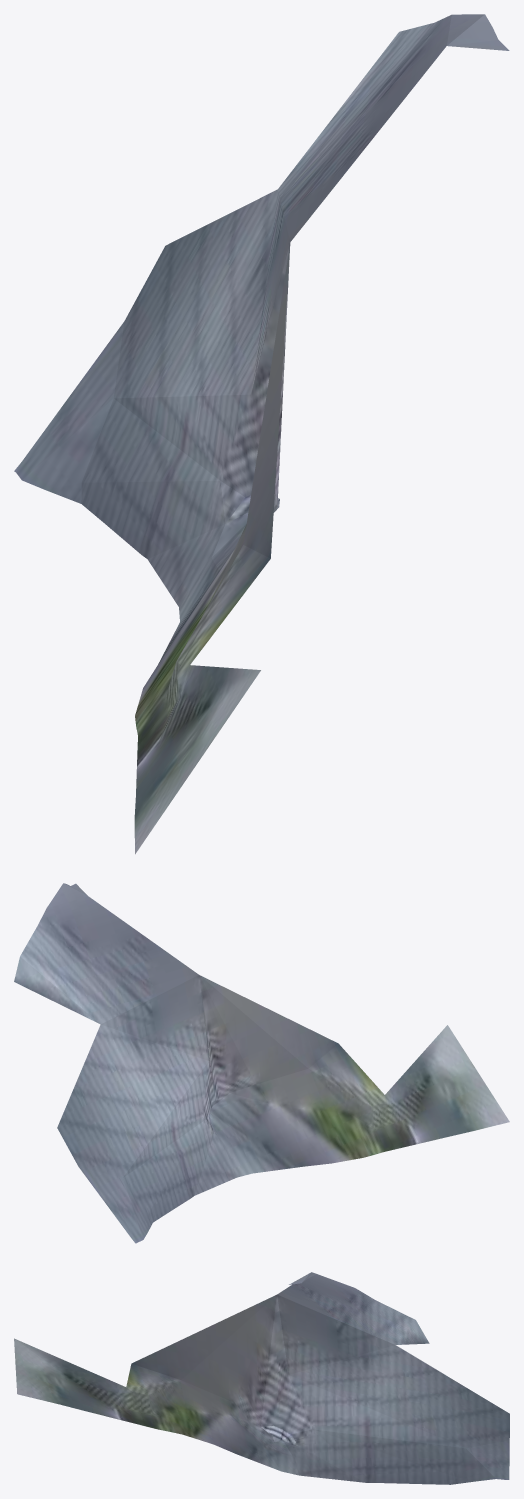
The model's file is nolod_Tile_+006_+007_L21_000330t4.glb.
The picture shows the model from 3 angles, top to bottom: view 1: azimuth 30°, elevation 25°; view 2: azimuth 150°, elevation 25°; view 3: azimuth 270°, elevation 25°; orthographic projection. The views are drawn at different scales.
Visible parts, largest first — view 1: rtc; view 2: rtc; view 3: rtc.
Part boxes in pixels (box(x1,y1,x2,y2)): rtc: box(14, 14, 509, 854); rtc: box(14, 883, 509, 1243); rtc: box(14, 1272, 509, 1484).
Bounding box in the file's own units: 10.78 × 8.53 × 13.09.
Materials: 1 (1 with a texture image).
